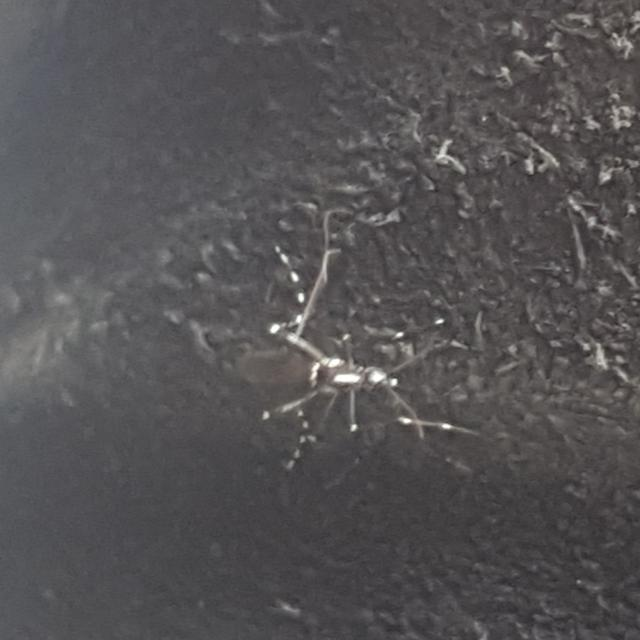albopictus: (227, 188, 498, 474)
